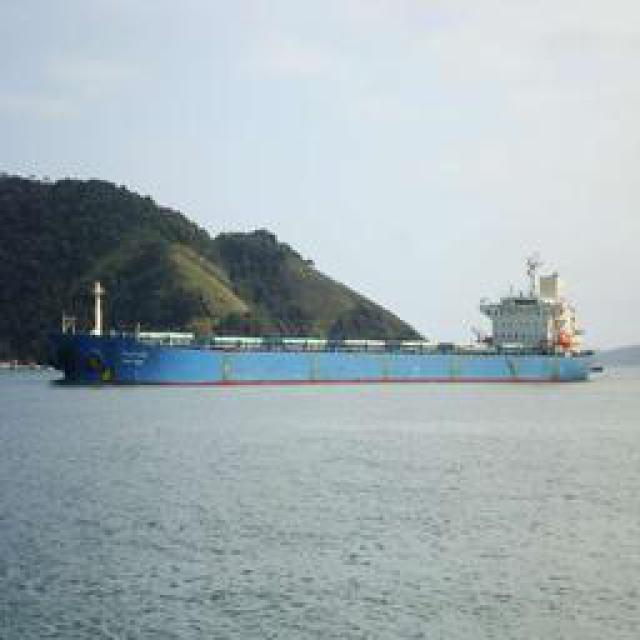Ship: (39, 252, 609, 401)
